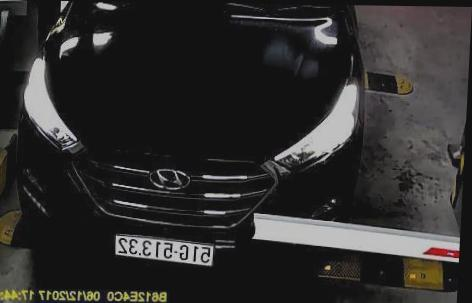License_Plate: (112, 231, 219, 266)
